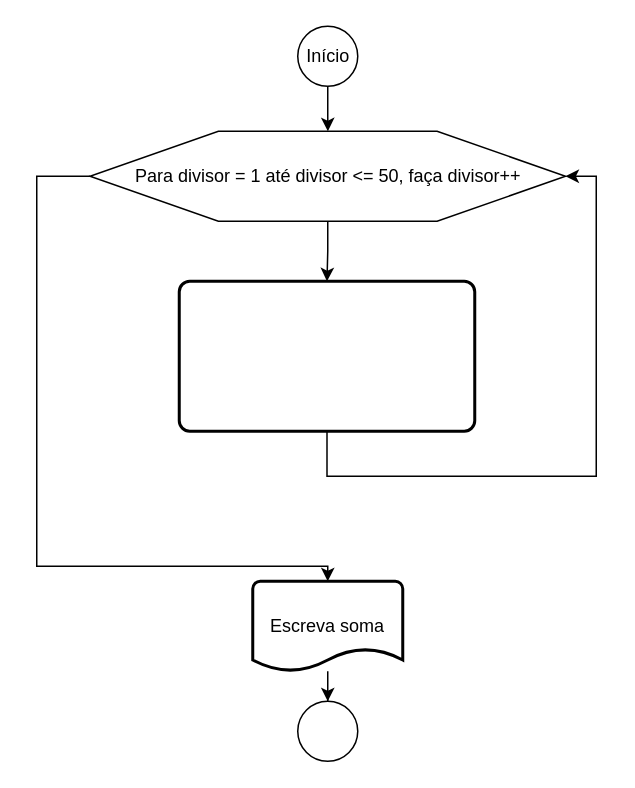
This 635x788 diagram has some shape labels left out. Each missing label, with the centre of its shape:
"Fim" goes at [327,730].
"soma += dividendo / divisor dividendo += 2" goes at [326,355].
